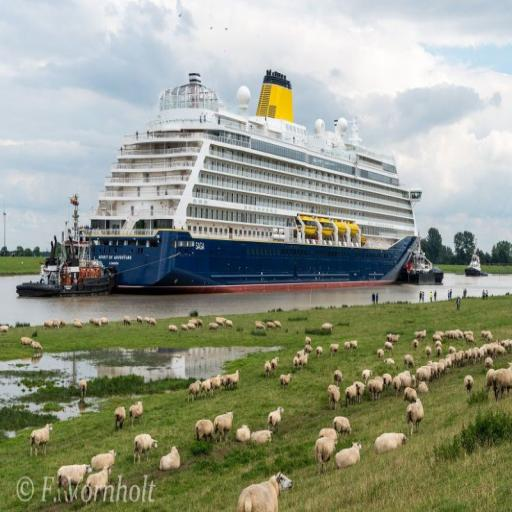cruises: (78, 67, 423, 300)
